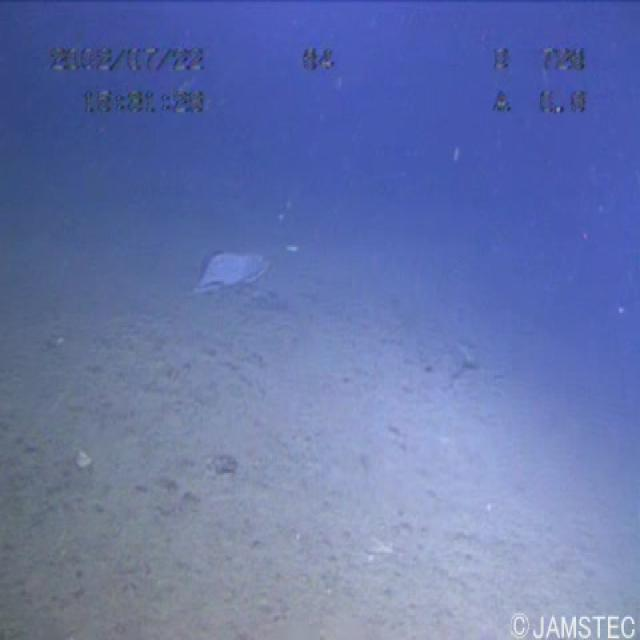plastic: (178, 231, 274, 297)
